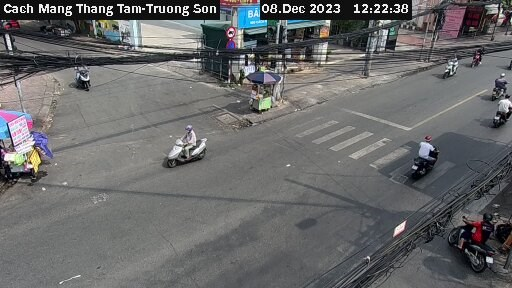motorbike: (451, 212, 505, 278), (163, 129, 226, 178), (397, 135, 444, 188), (69, 61, 105, 95), (486, 91, 512, 125), (432, 50, 460, 80), (482, 70, 512, 98), (467, 44, 495, 74)
